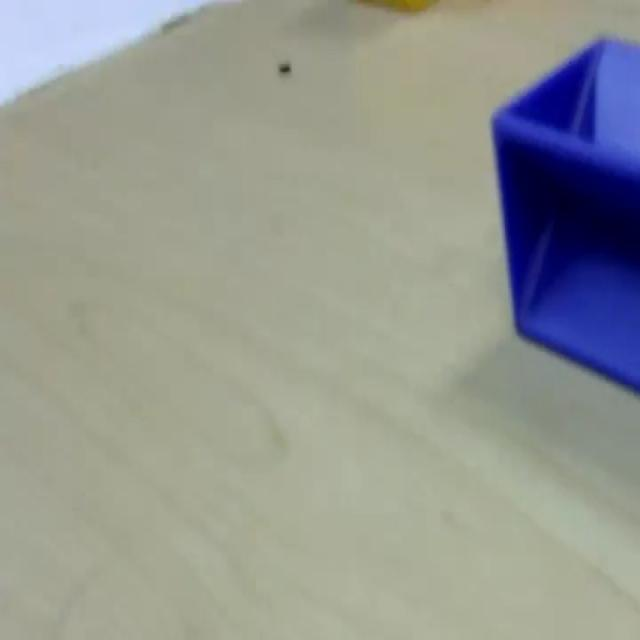blue_block: (489, 34, 639, 394)
